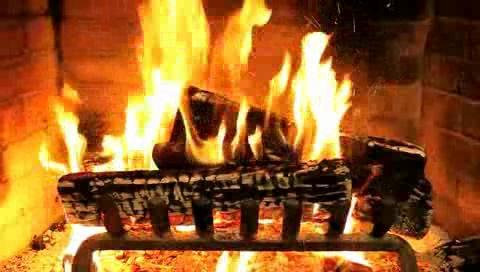fire: (117, 5, 345, 182)
